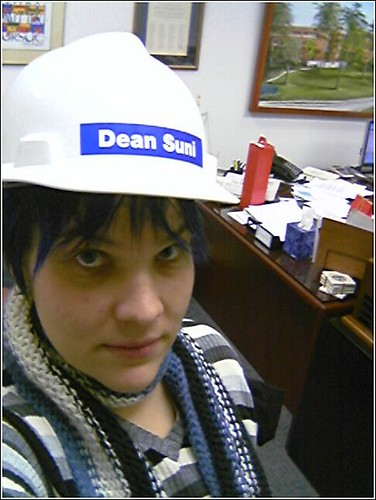person hardhat: (1, 29, 241, 393)
